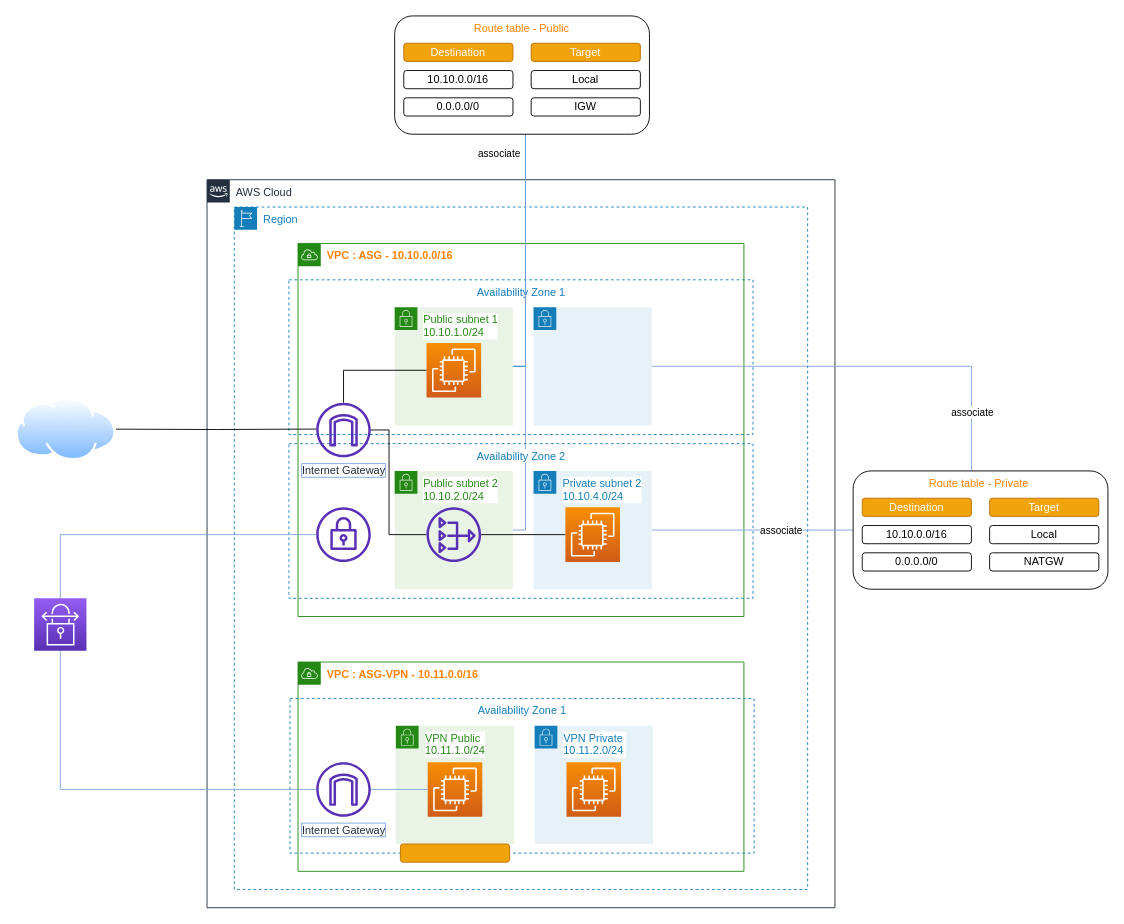
Image size: 1124x924. Some labels were removed from this diagram. Here are the shapes that lost their labels. From the top down, the centre of each, then its label:
(453,370): EC2 Public
(592,365): Private subnet 1 10.10.3.0/24
(343,534): VPN Gateway
(453,534): NAT Gateway
(592,534): EC2 Private
(59,624): Site to Site VPN
(454,789): Customer Gateway
(593,789): EC2 Private 2
(454,852): Open Swan
